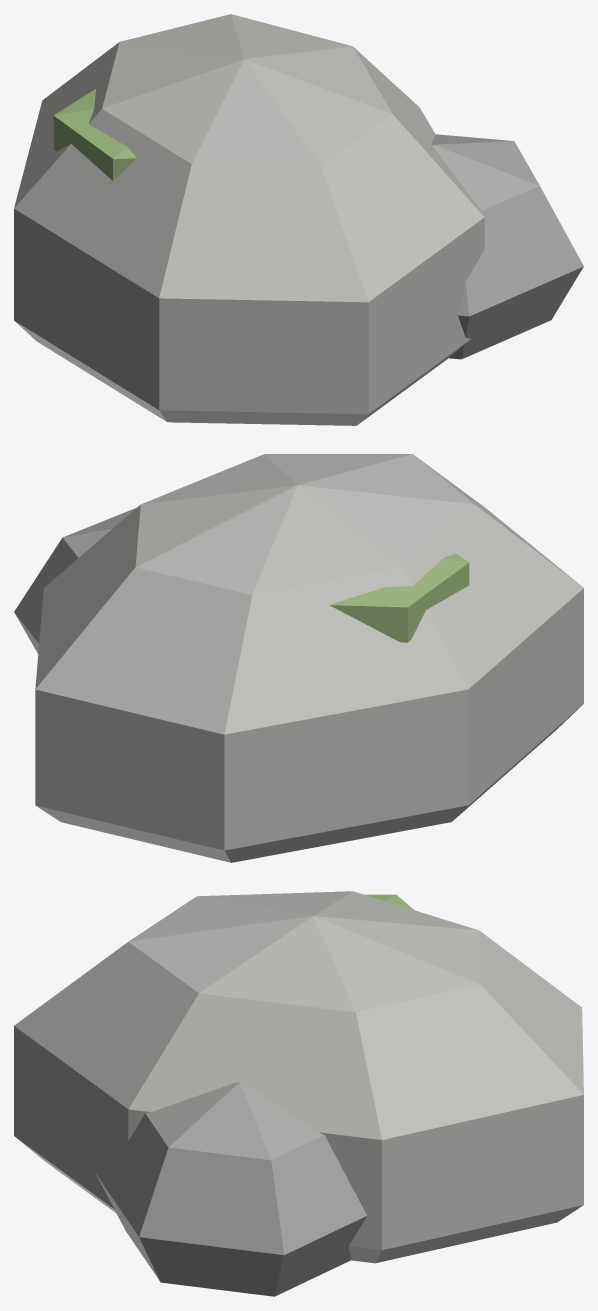
Rendered from sb_rock_small.glb.
3 renders of one model, top to bottom at view 1: azimuth 30°, elevation 25°; view 2: azimuth 150°, elevation 25°; view 3: azimuth 270°, elevation 25°, orthographic. The views are drawn at different scales.
Visible parts, largest first — view 1: sb_rock_small; view 2: sb_rock_small; view 3: sb_rock_small.
Part boxes in pixels (box(x1,y1,x2,y2)): sb_rock_small: box(14, 14, 583, 425); sb_rock_small: box(14, 454, 583, 862); sb_rock_small: box(14, 891, 583, 1296).
Size of the model in its own units: 1.35 by 0.69 by 1.39.
